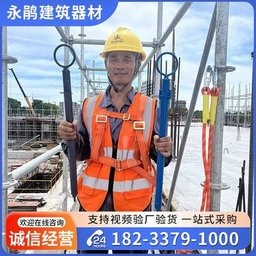safety belt: (80, 94, 162, 186)
